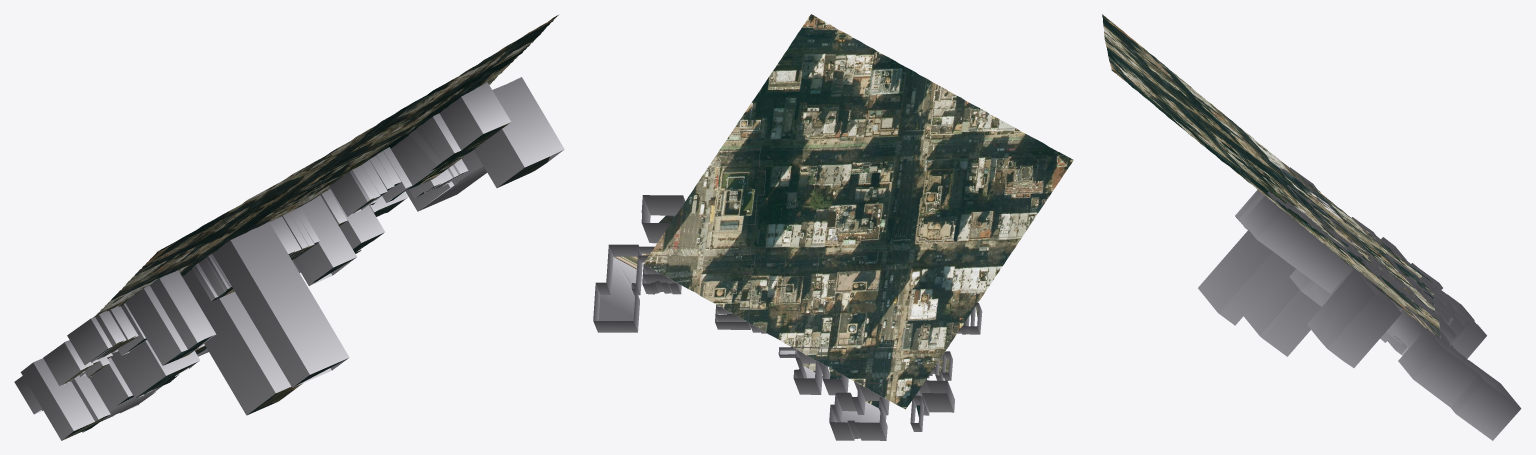
3 views of the same model, side by side, from view 1: azimuth 30°, elevation 25°; view 2: azimuth 150°, elevation 25°; view 3: azimuth 270°, elevation 25° (orthographic). The views are drawn at different scales.
Bounding box in the file's own units: 296 × 246 × 226.
1 material, 1 textured.
